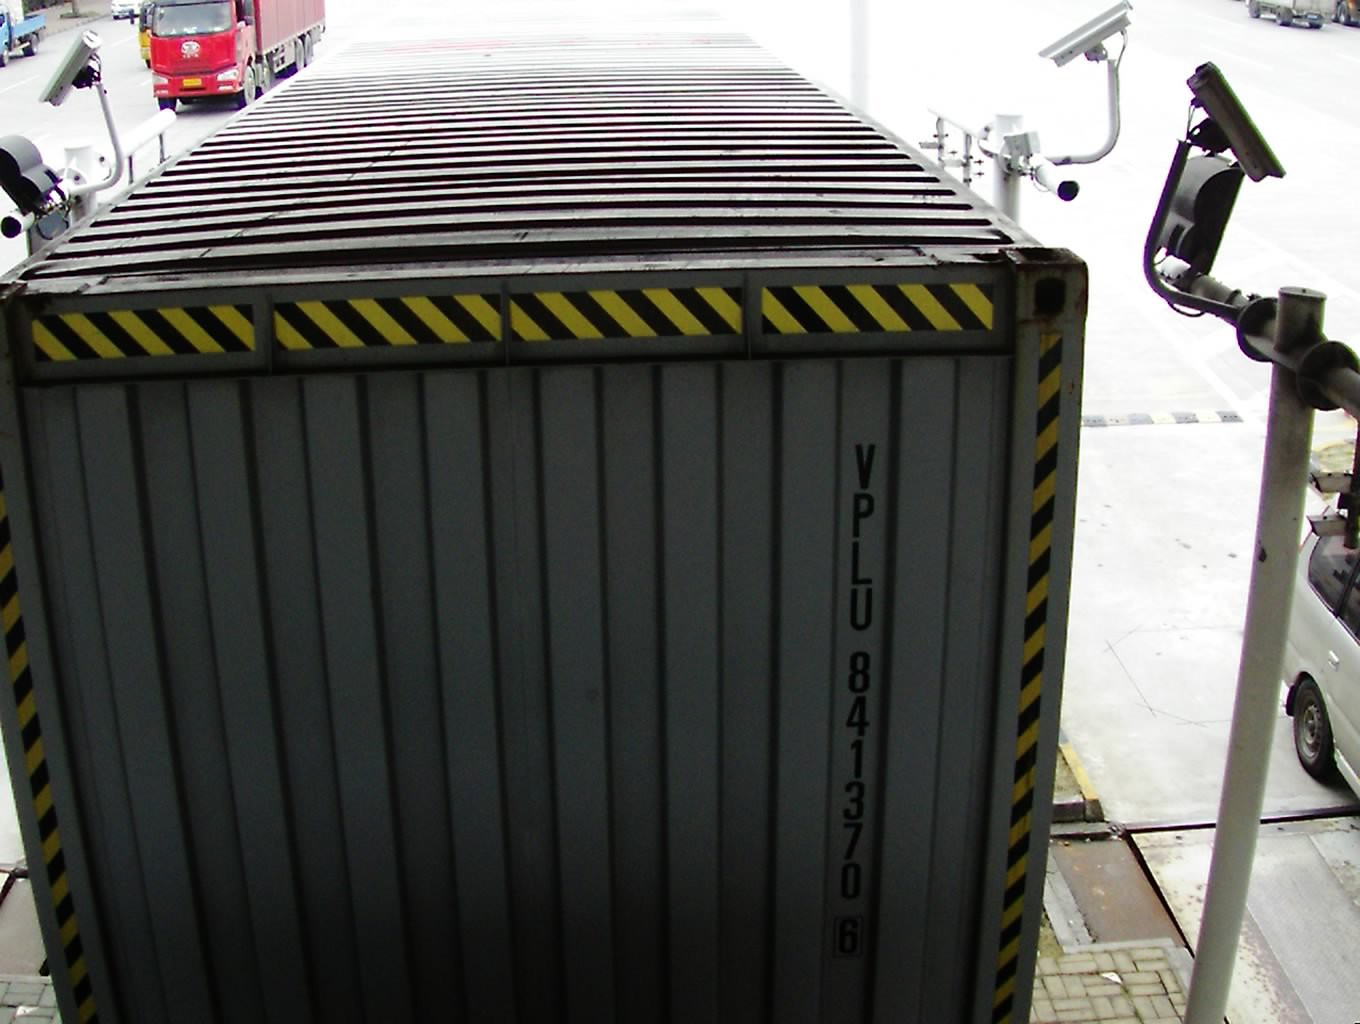words: (827, 433, 885, 959)
